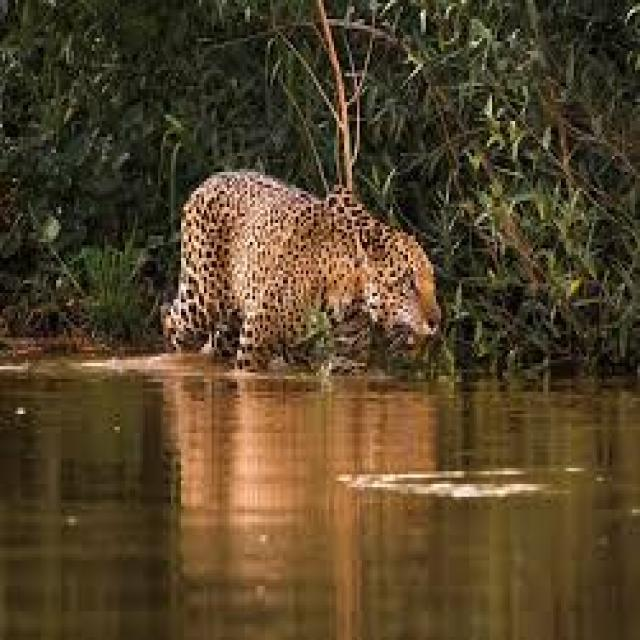Jaguar: (145, 150, 444, 388)
